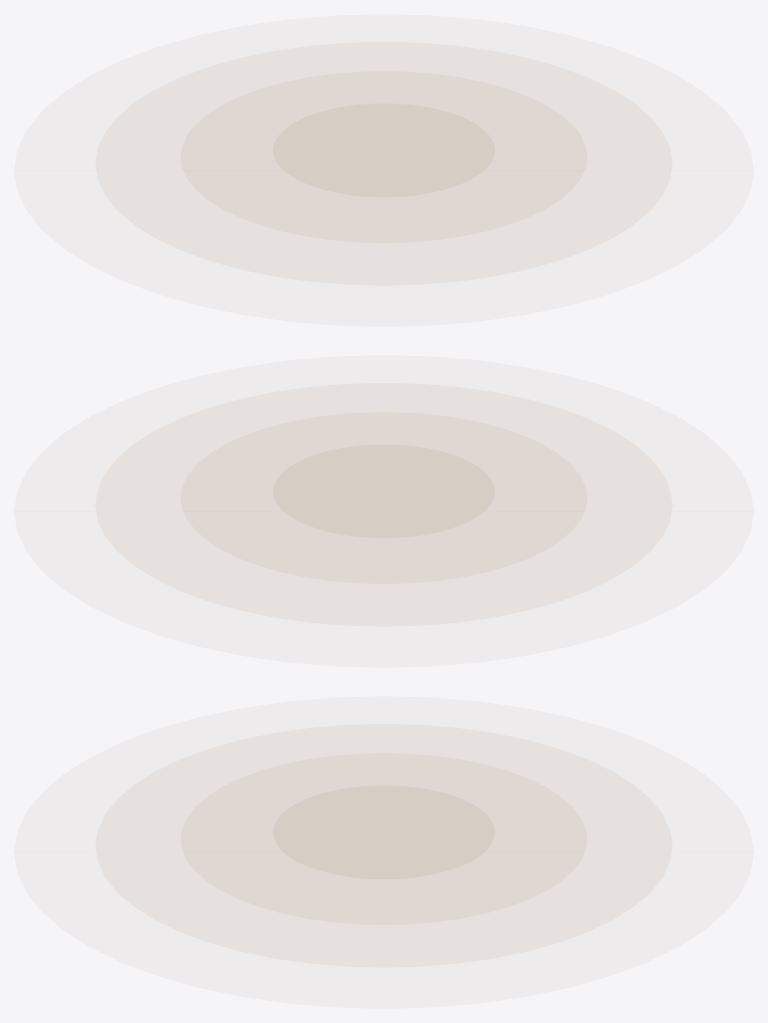
The model's file is dust.glb.
The picture shows the model from 3 angles, top to bottom: view 1: azimuth 30°, elevation 25°; view 2: azimuth 150°, elevation 25°; view 3: azimuth 270°, elevation 25°; orthographic projection.
Parts seen in each view (by area): view 1: dust; view 2: dust; view 3: dust.
Boxes of the visible parts, x1,y1,x2,y2 form: dust: [95, 42, 672, 285]; dust: [95, 383, 672, 626]; dust: [95, 724, 672, 967].
Size of the model in its own units: 2 by 0.06 by 2.
